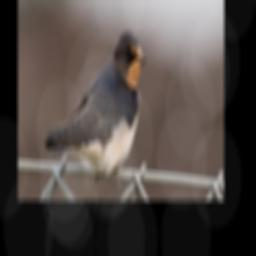Swallow: (43, 28, 147, 189)
